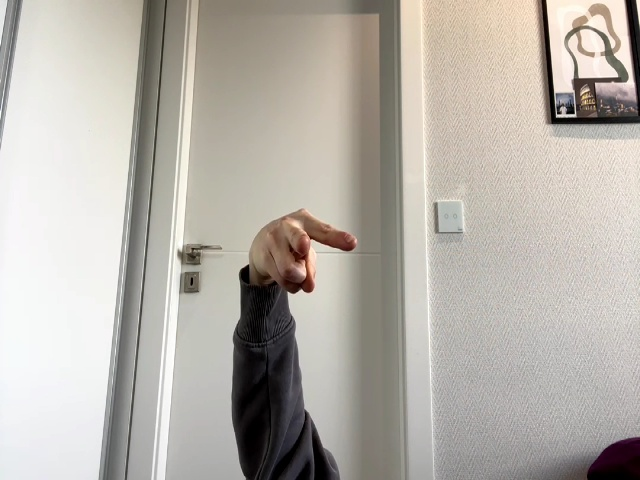U: (249, 209, 357, 293)
